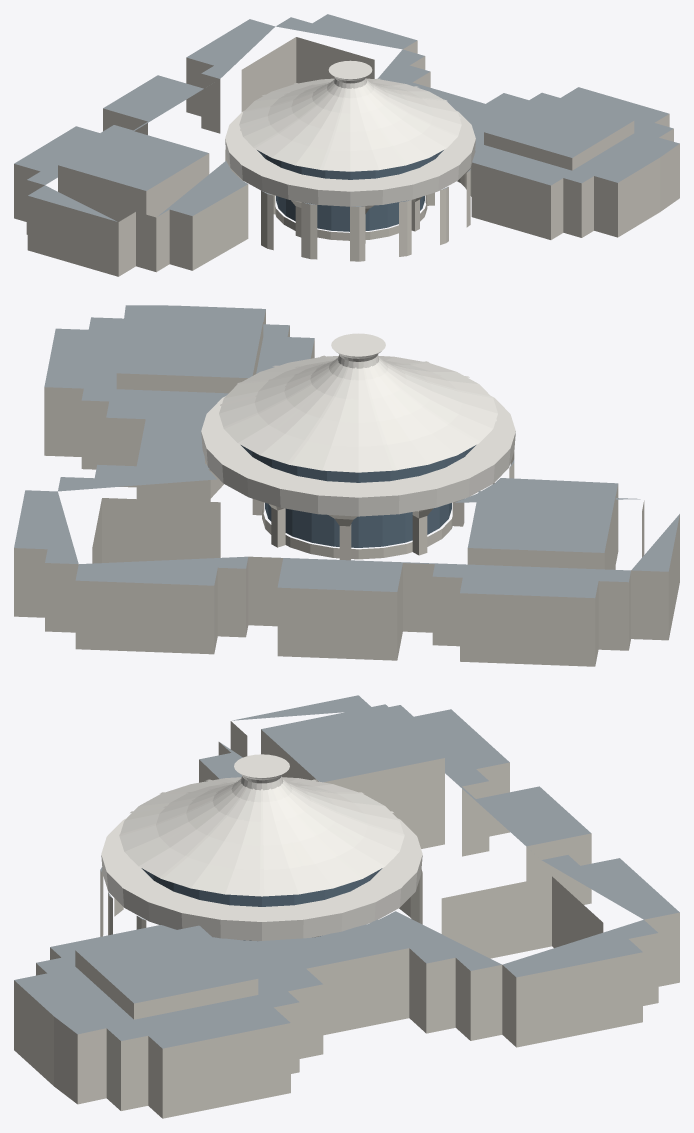
The model's file is van-space-centre.glb.
3 views of the same model, one above another, from view 1: azimuth 30°, elevation 25°; view 2: azimuth 150°, elevation 25°; view 3: azimuth 270°, elevation 25° (orthographic). The views are drawn at different scales.
Visible parts, largest first — view 1: H. R. MacMillan Space Centre and Museum of Vancouver; view 2: H. R. MacMillan Space Centre and Museum of Vancouver; view 3: H. R. MacMillan Space Centre and Museum of Vancouver.
Part boxes in pixels (x1=…): H. R. MacMillan Space Centre and Museum of Vancouver: x1=14, y1=14, x2=679, y2=276; H. R. MacMillan Space Centre and Museum of Vancouver: x1=14, y1=305, x2=679, y2=666; H. R. MacMillan Space Centre and Museum of Vancouver: x1=14, y1=695, x2=679, y2=1118.
Bounding box in the file's own units: 110 × 25.8 × 87.84.
